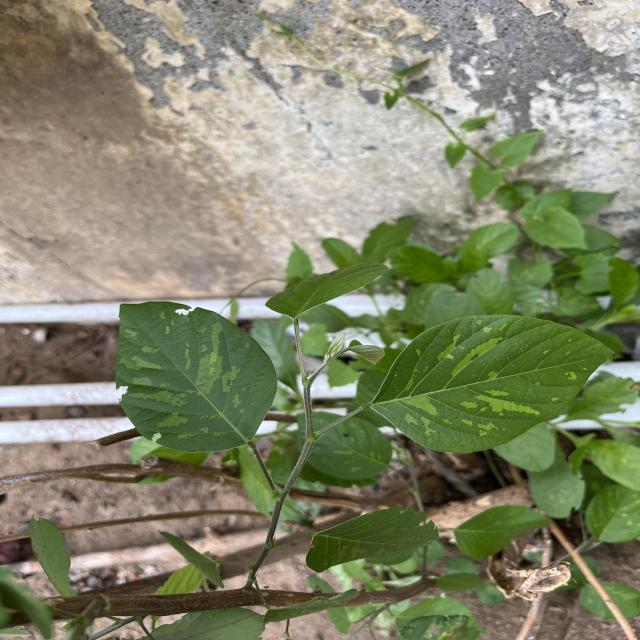Desmodium gangeticum: (366, 311, 618, 457), (110, 298, 280, 454)
